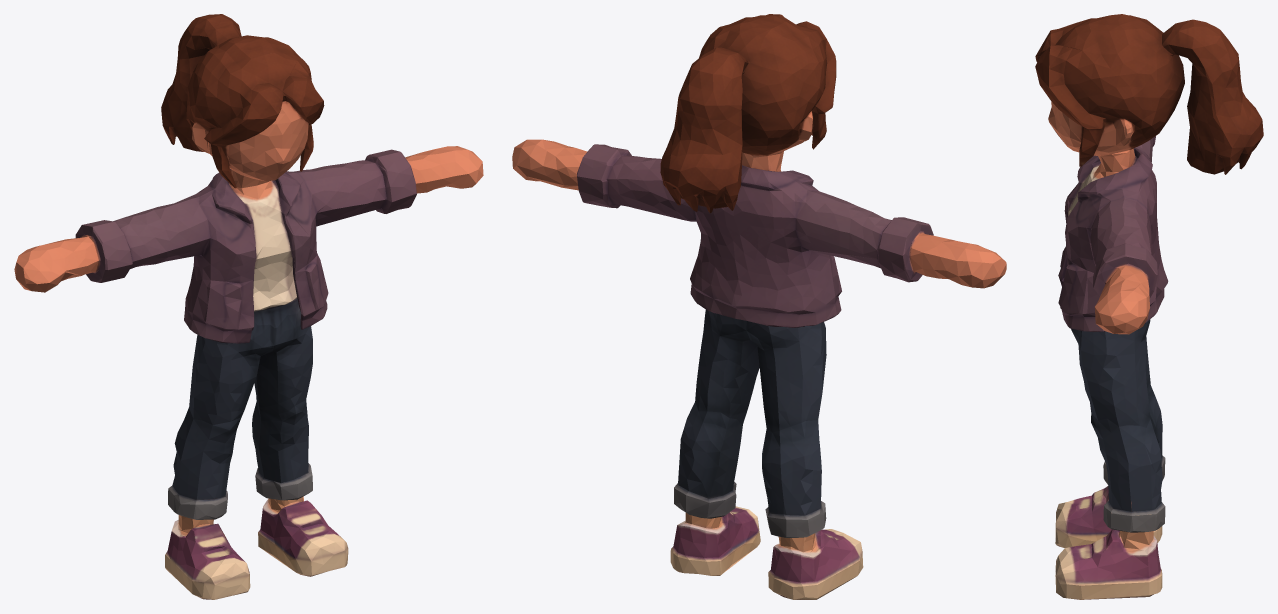
File: female-student-1-textured.glb
3 views of the same model, side by side, from view 1: azimuth 30°, elevation 25°; view 2: azimuth 150°, elevation 25°; view 3: azimuth 270°, elevation 25° (orthographic). The views are drawn at different scales.
Parts seen in each view (by area): view 1: geometry_0; view 2: geometry_0; view 3: geometry_0.
Boxes of the visible parts, x1,y1,x2,y2 form: geometry_0: [14, 14, 483, 599]; geometry_0: [512, 14, 1006, 599]; geometry_0: [1035, 14, 1263, 599].
Size of the model in its own units: 0.9273 by 1 by 0.3821.
1 material, 1 textured.
